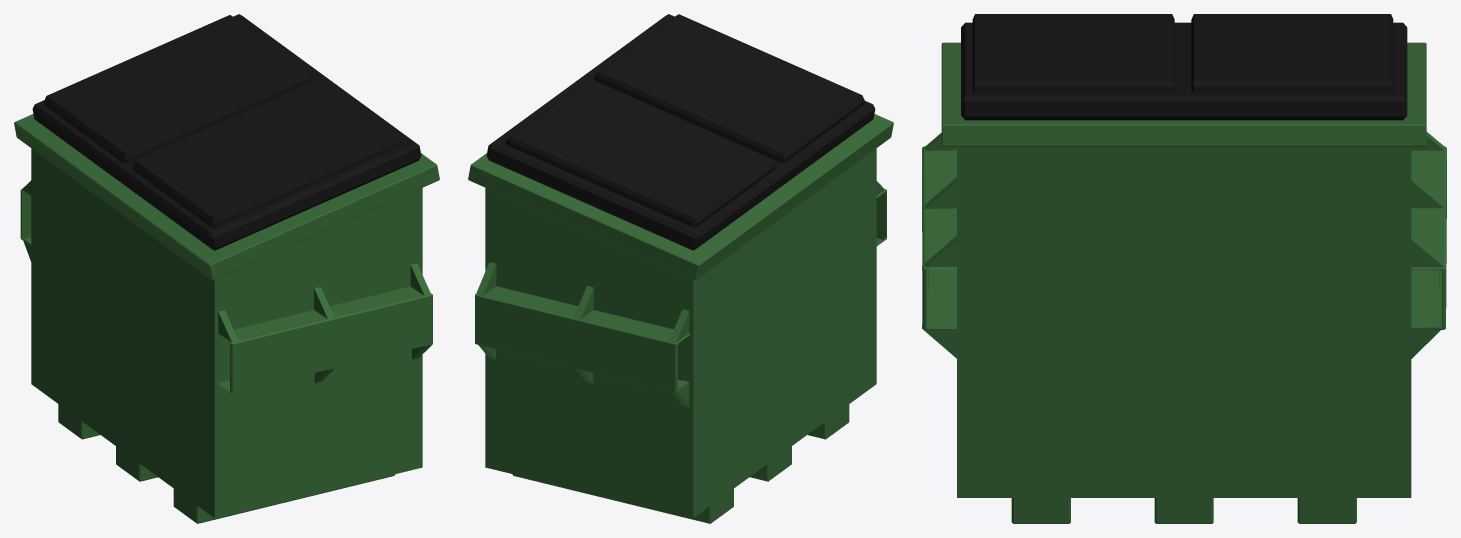
File: Garbage Dump.fbx
The picture shows the model from 3 angles, left to right: view 1: azimuth 30°, elevation 25°; view 2: azimuth 150°, elevation 25°; view 3: azimuth 270°, elevation 25°; orthographic projection. The views are drawn at different scales.
Visible parts, largest first — view 1: pCube27; view 2: pCube27; view 3: pCube27.
Part boxes in pixels (left/top/right/bottom): pCube27: left=14, top=14, right=439, bottom=523; pCube27: left=468, top=14, right=893, bottom=523; pCube27: left=922, top=14, right=1446, bottom=523.
Bounding box in the file's own units: 9.03 × 13.17 × 14.34.
